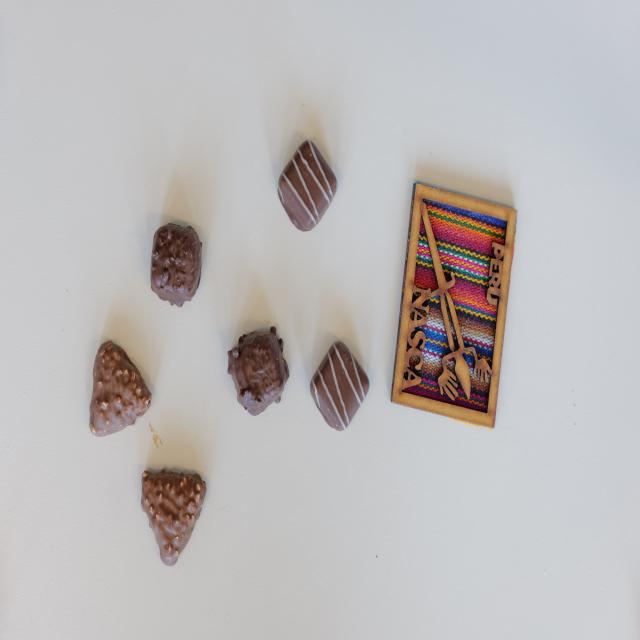Stracciatella: (277, 138, 338, 234), (310, 340, 368, 432)
Tentation_noir: (228, 326, 290, 414), (150, 223, 202, 309)
Triangolo: (141, 467, 207, 566), (88, 338, 151, 438)
